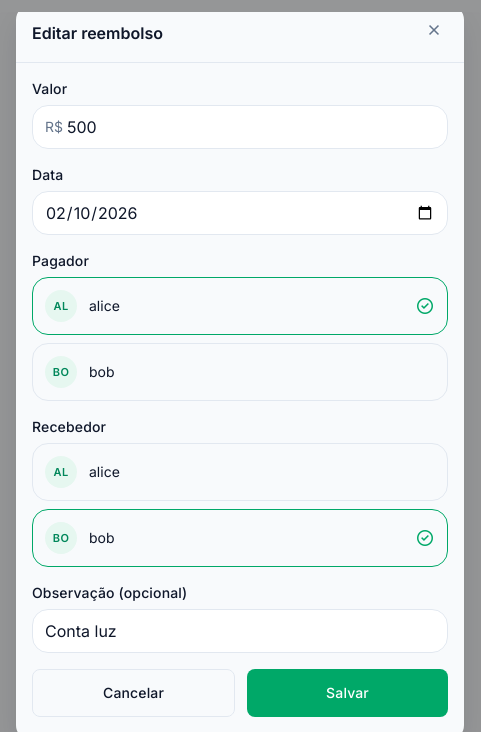
Test case: EditarReembolsoModal — validação › exibe erro se valor = 0
Replace the text in the number field showing "500" with "0": (255, 126) [63,106,447,148]
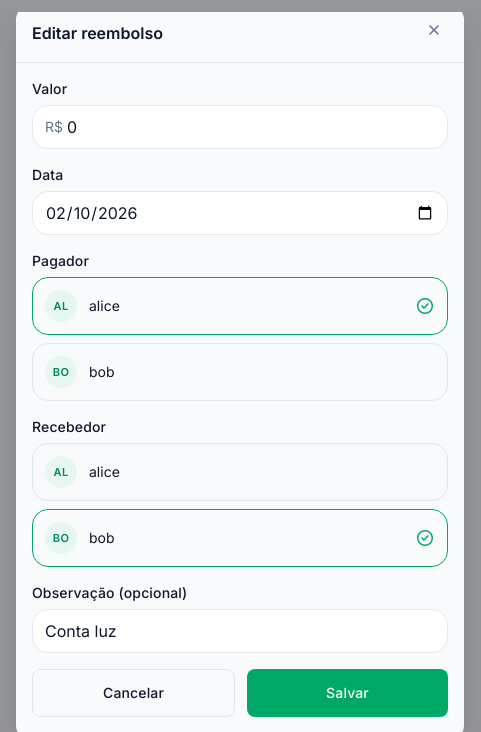
Submit the form
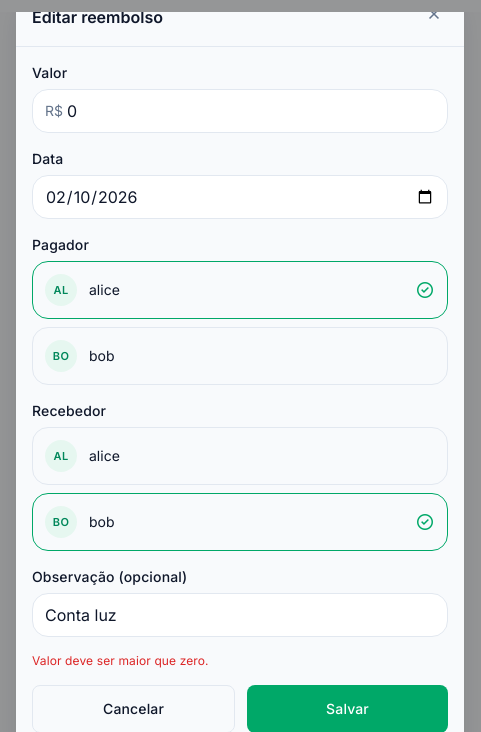
Check: the text "Valor deve ser maior que zero." is shown, box [32,652,209,668]
